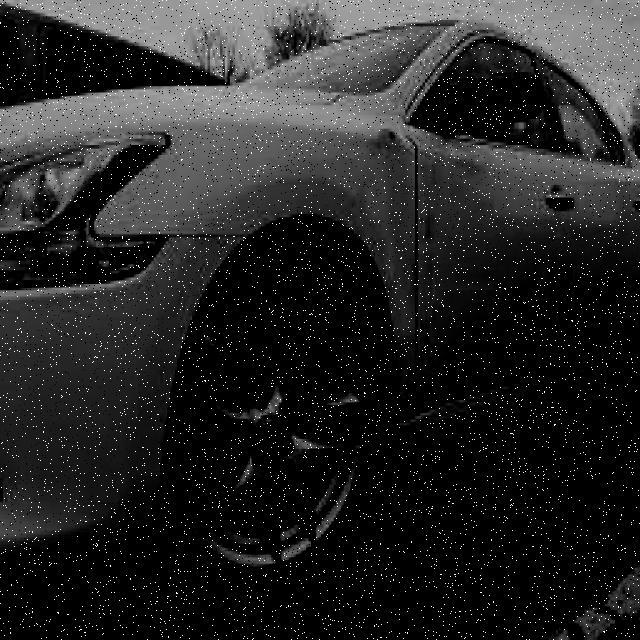car damage: (351, 119, 443, 371)
